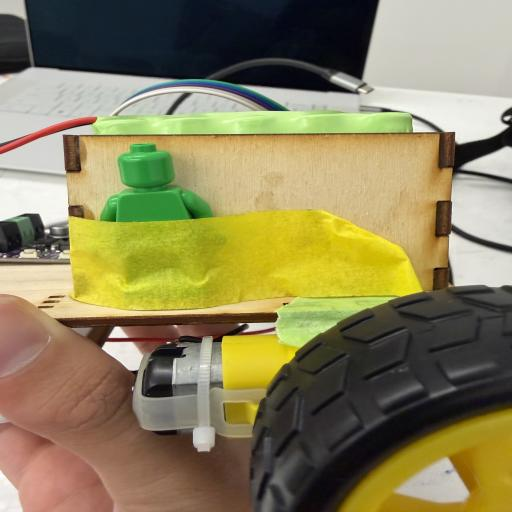Green-Lego: (100, 143, 213, 222)
